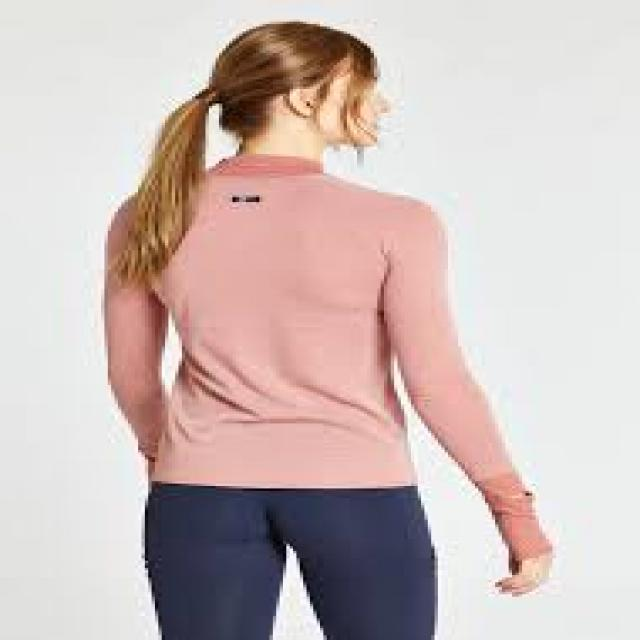plain: (99, 152, 524, 502)
